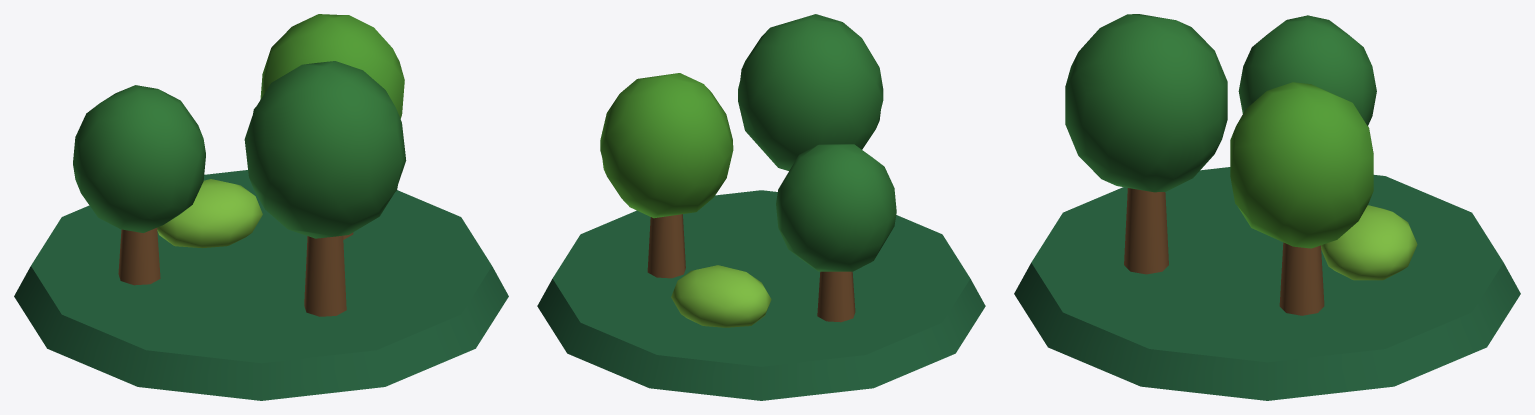
Rendered from terrain-forest.glb.
3 views of the same model, side by side, from view 1: azimuth 30°, elevation 25°; view 2: azimuth 150°, elevation 25°; view 3: azimuth 270°, elevation 25° (orthographic). The views are drawn at different scales.
Parts seen in each view (by area): view 1: ForestDecor_IslandGrassDark_0, ForestDecor_LeafDark_2, ForestDecor_LeafBright_3, ForestDecor_SculptedBark_1, ForestDecor_LeafHighlight_4; view 2: ForestDecor_IslandGrassDark_0, ForestDecor_LeafDark_2, ForestDecor_LeafBright_3, ForestDecor_LeafHighlight_4, ForestDecor_SculptedBark_1; view 3: ForestDecor_IslandGrassDark_0, ForestDecor_LeafDark_2, ForestDecor_LeafBright_3, ForestDecor_SculptedBark_1, ForestDecor_LeafHighlight_4.
Part boxes in pixels (x1,y1,x2,y2): ForestDecor_IslandGrassDark_0: (14, 170, 508, 400); ForestDecor_LeafDark_2: (73, 61, 406, 238); ForestDecor_LeafBright_3: (260, 14, 404, 118); ForestDecor_SculptedBark_1: (118, 228, 353, 316); ForestDecor_LeafHighlight_4: (157, 179, 262, 248); ForestDecor_IslandGrassDark_0: (537, 190, 985, 400); ForestDecor_LeafDark_2: (738, 14, 896, 271); ForestDecor_LeafBright_3: (600, 73, 733, 218); ForestDecor_LeafHighlight_4: (671, 265, 771, 327); ForestDecor_SculptedBark_1: (647, 214, 855, 322); ForestDecor_IslandGrassDark_0: (1014, 167, 1520, 400); ForestDecor_LeafDark_2: (1065, 14, 1376, 192); ForestDecor_LeafBright_3: (1230, 82, 1373, 248); ForestDecor_SculptedBark_1: (1124, 188, 1324, 315); ForestDecor_LeafHighlight_4: (1321, 205, 1417, 280).
Bounding box in the file's own units: 1.76 × 1.06 × 1.76.
